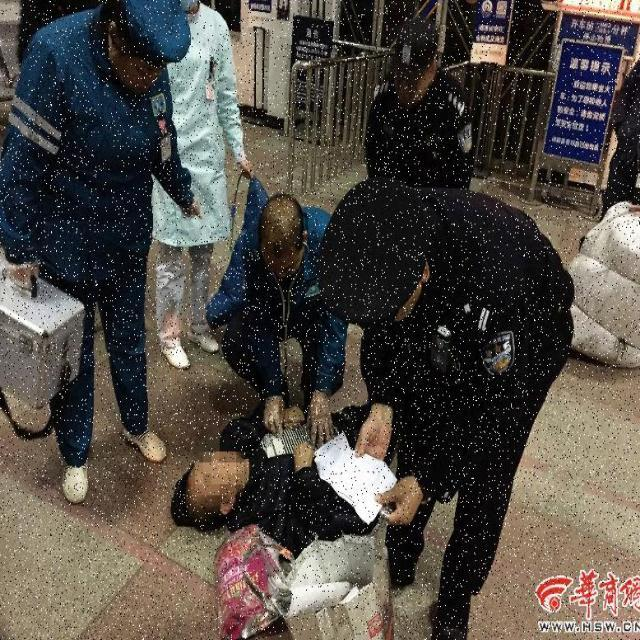fall: (194, 409, 356, 523)
